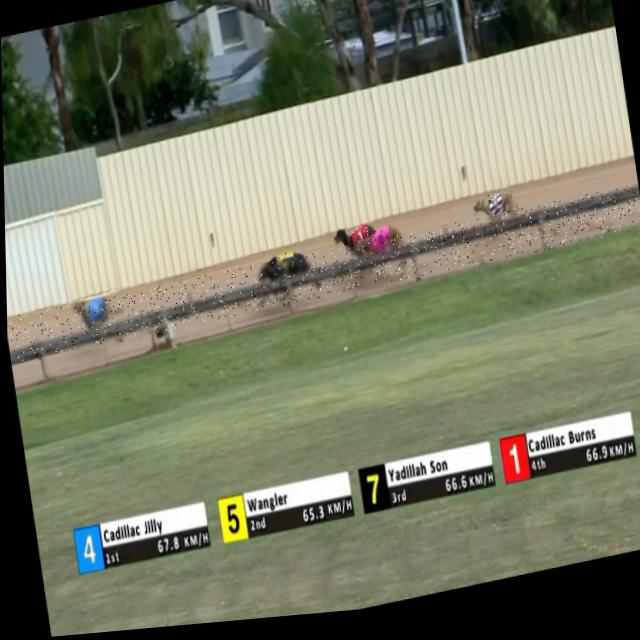dog_eight: (371, 235, 389, 258)
dog_five: (274, 254, 293, 274)
dog_four: (85, 298, 104, 326)
dog_one: (348, 230, 370, 254)
dog_seven: (276, 263, 294, 286)
dog_two: (487, 200, 508, 228)
rail: (8, 195, 639, 363)
